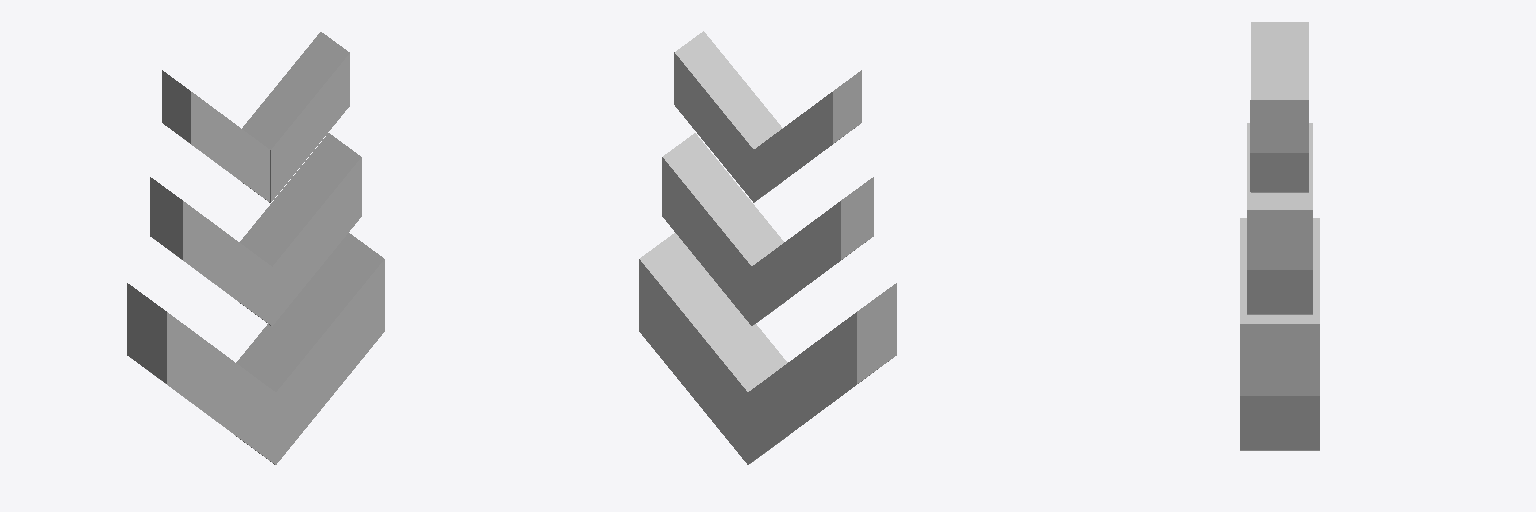
Rendered from SizeDown2.0.obj.
3 renders of one model, left to right at view 1: azimuth 30°, elevation 25°; view 2: azimuth 150°, elevation 25°; view 3: azimuth 270°, elevation 25°, orthographic.
Parts seen in each view (by area): view 1: Cube.005, Cube.003, Cube.004, Cube.001, Cube.002, Cube; view 2: Cube.005, Cube.003, Cube.004, Cube.001, Cube.002, Cube; view 3: Cube.005, Cube.003, Cube.001, Cube, Cube.004, Cube.002.
Boxes of the visible parts, <box> form: Cube.005: <box>236,233,384,464</box>; Cube.003: <box>240,133,361,325</box>; Cube.004: <box>127,283,275,464</box>; Cube.001: <box>242,32,349,202</box>; Cube.002: <box>150,177,272,326</box>; Cube: <box>162,70,269,201</box>; Cube.005: <box>639,233,787,464</box>; Cube.003: <box>662,133,783,325</box>; Cube.004: <box>748,283,896,464</box>; Cube.001: <box>674,31,782,202</box>; Cube.002: <box>752,177,873,325</box>; Cube: <box>753,70,861,202</box>; Cube.005: <box>1240,324,1319,449</box>; Cube.003: <box>1247,210,1312,313</box>; Cube.001: <box>1250,100,1308,191</box>; Cube: <box>1251,22,1308,192</box>; Cube.004: <box>1240,218,1319,450</box>; Cube.002: <box>1247,123,1312,314</box>.
Bounding box in the file's own units: 7.62 × 13.04 × 2.44.